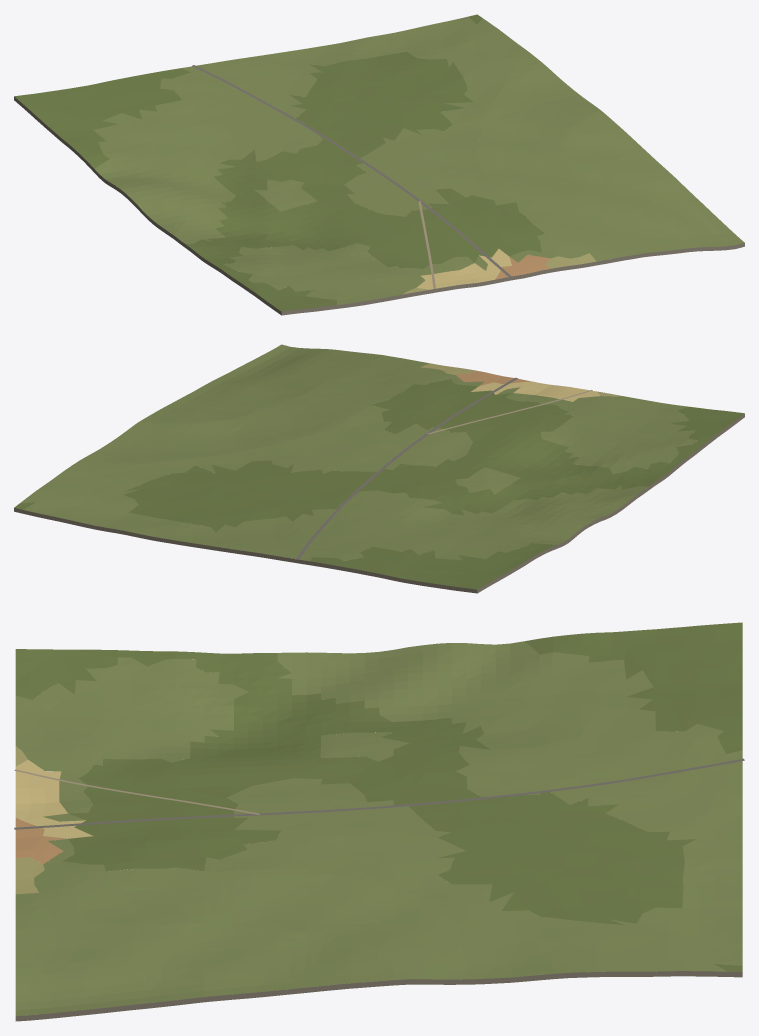
Rendered from parca_+11_-5-uzak.glb.
3 views of the same model, one above another, from view 1: azimuth 30°, elevation 25°; view 2: azimuth 150°, elevation 25°; view 3: azimuth 270°, elevation 25° (orthographic). The views are drawn at different scales.
Visible parts, largest first — view 1: parca_+11_-5_arazi_uzak, parca_+11_-5_yollar_uzak; view 2: parca_+11_-5_arazi_uzak, parca_+11_-5_yollar_uzak; view 3: parca_+11_-5_arazi_uzak, parca_+11_-5_yollar_uzak.
Part boxes in pixels (x1=…): parca_+11_-5_arazi_uzak: x1=14, y1=14, x2=744, y2=315; parca_+11_-5_yollar_uzak: x1=192, y1=65, x2=511, y2=288; parca_+11_-5_arazi_uzak: x1=14, y1=344, x2=744, y2=593; parca_+11_-5_yollar_uzak: x1=296, y1=377, x2=592, y2=559; parca_+11_-5_arazi_uzak: x1=15, y1=622, x2=742, y2=1021; parca_+11_-5_yollar_uzak: x1=14, y1=758, x2=744, y2=829.
Size of the model in its own units: 1000 by 140 by 1006.
